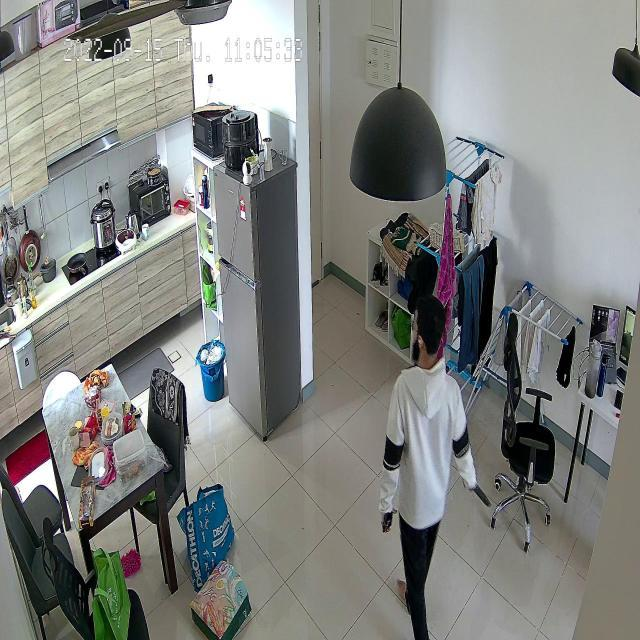Gun: (460, 473, 500, 515)
